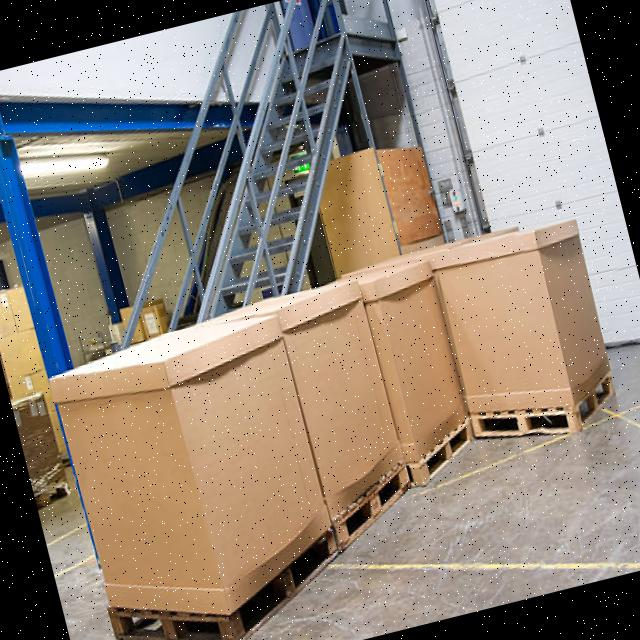Wooden-Pallets: (102, 522, 345, 640), (471, 366, 627, 461), (405, 406, 489, 504), (333, 460, 414, 554)
